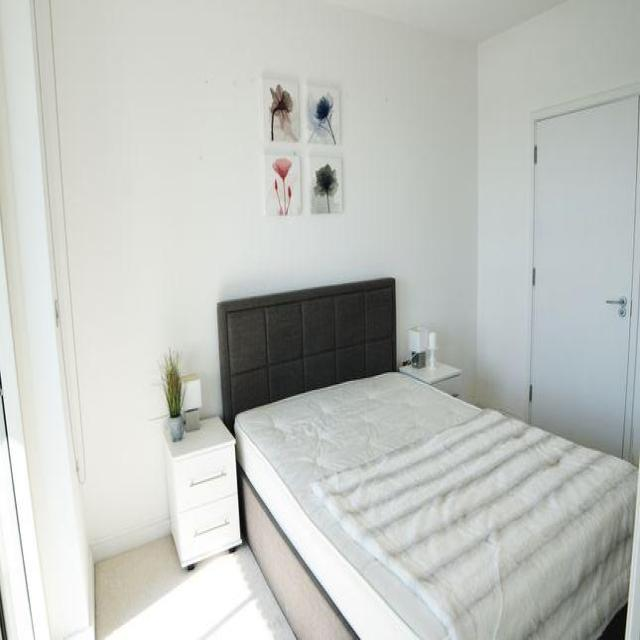Wall: (53, 0, 640, 557), (0, 0, 94, 638), (95, 536, 294, 639), (224, 214, 395, 297), (330, 1, 563, 42)
